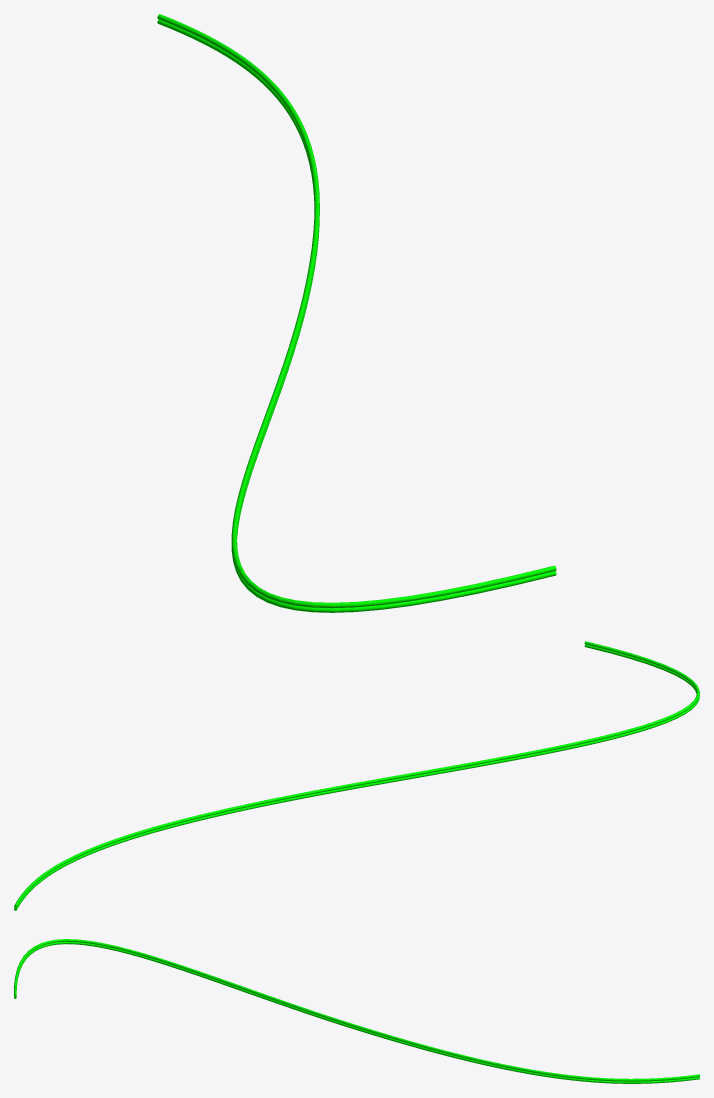
Rendered from CableB.fbx.
3 renders of one model, top to bottom at view 1: azimuth 30°, elevation 25°; view 2: azimuth 150°, elevation 25°; view 3: azimuth 270°, elevation 25°, orthographic. The views are drawn at different scales.
Visible parts, largest first — view 1: Empty_Mesh; view 2: Empty_Mesh; view 3: Empty_Mesh.
Part boxes in pixels (x1=…): Empty_Mesh: x1=157, y1=14, x2=556, y2=612; Empty_Mesh: x1=14, y1=641, x2=699, y2=910; Empty_Mesh: x1=14, y1=939, x2=699, y2=1083.
Size of the model in its own units: 12648 by 644 by 27320.
